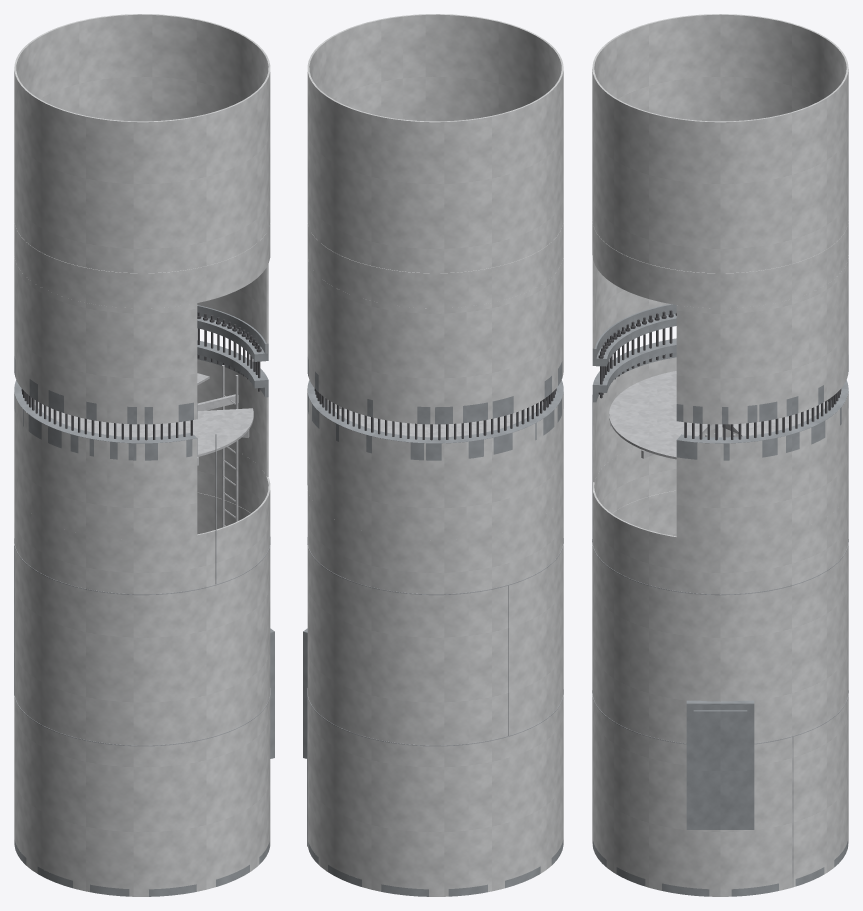
File: wind-tower-sections-and-joints.glb
3 views of the same model, side by side, from view 1: azimuth 30°, elevation 25°; view 2: azimuth 150°, elevation 25°; view 3: azimuth 270°, elevation 25° (orthographic).
Parts seen in each view (by area): view 1: LowerSectionCans, UpperSectionCans, L-Flanges, InternalPlatform, FlangeBolts, WeldSeams, Ladder, DoorFrame; view 2: LowerSectionCans, UpperSectionCans, L-Flanges, FlangeBolts, InternalPlatform, WeldSeams, DoorFrame; view 3: LowerSectionCans, UpperSectionCans, L-Flanges, DoorFrame, InternalPlatform, FlangeBolts, WeldSeams.
Part boxes in pixels (bbox=[...]): LowerSectionCans: bbox=[14, 359, 270, 896]; UpperSectionCans: bbox=[14, 14, 270, 424]; L-Flanges: bbox=[14, 305, 269, 896]; InternalPlatform: bbox=[34, 373, 253, 465]; FlangeBolts: bbox=[21, 311, 261, 440]; WeldSeams: bbox=[14, 434, 270, 746]; Ladder: bbox=[222, 365, 238, 527]; DoorFrame: bbox=[270, 628, 274, 758]; LowerSectionCans: bbox=[307, 388, 563, 896]; UpperSectionCans: bbox=[307, 14, 563, 424]; L-Flanges: bbox=[307, 357, 563, 896]; FlangeBolts: bbox=[314, 388, 556, 440]; InternalPlatform: bbox=[332, 401, 543, 437]; WeldSeams: bbox=[307, 537, 563, 846]; DoorFrame: bbox=[303, 628, 307, 758]; LowerSectionCans: bbox=[592, 357, 848, 896]; UpperSectionCans: bbox=[592, 14, 848, 424]; L-Flanges: bbox=[592, 304, 848, 896]; DoorFrame: bbox=[686, 700, 754, 829]; InternalPlatform: bbox=[609, 371, 828, 459]; FlangeBolts: bbox=[598, 310, 841, 440]; WeldSeams: bbox=[592, 394, 848, 886].
Bounding box in the file's own units: 4.44 × 14.35 × 4.31.
5 materials, 5 textured.
